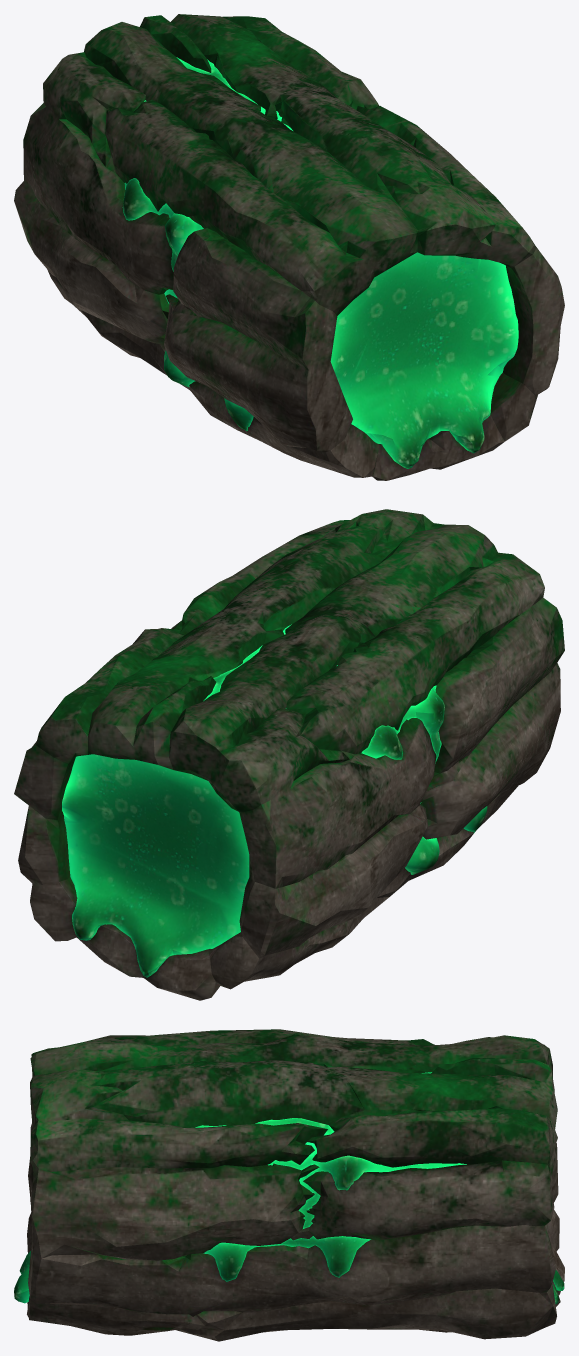
The model's file is green_biome_ore.glb.
The picture shows the model from 3 angles, top to bottom: view 1: azimuth 30°, elevation 25°; view 2: azimuth 150°, elevation 25°; view 3: azimuth 270°, elevation 25°; orthographic projection. The views are drawn at different scales.
Parts seen in each view (by area): view 1: Cylinder.001; view 2: Cylinder.001; view 3: Cylinder.001.
Part boxes in pixels (x1=…): Cylinder.001: x1=14, y1=14, x2=564, y2=480; Cylinder.001: x1=14, y1=509, x2=564, y2=1000; Cylinder.001: x1=14, y1=1029, x2=564, y2=1341.
Size of the model in its own units: 0.3351 by 0.3061 by 0.5695.
1 material, 1 textured.
